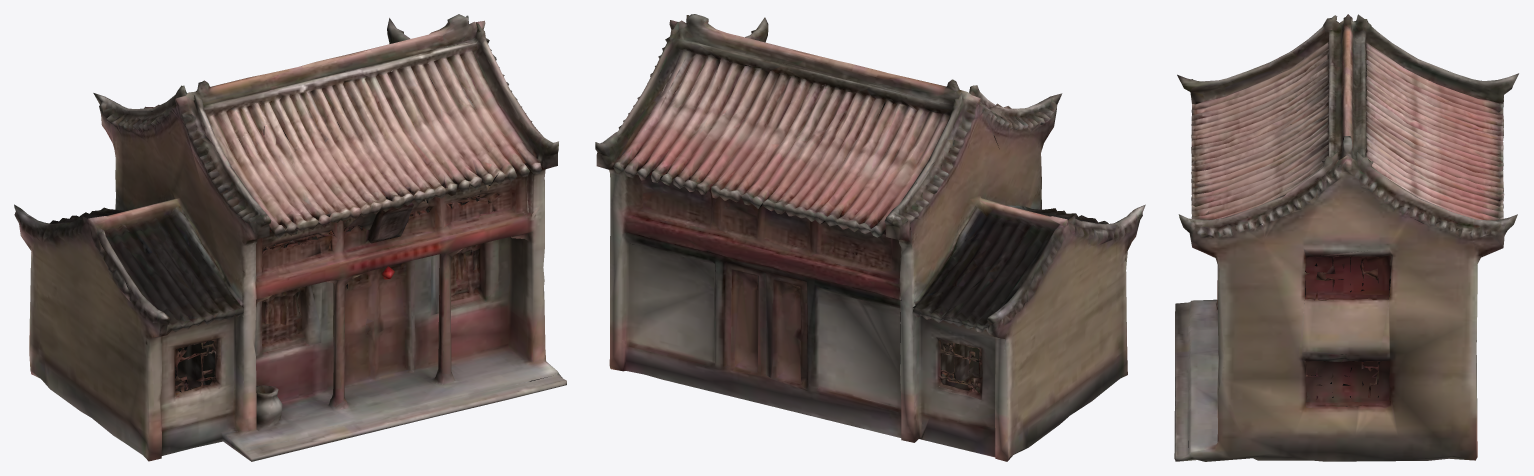
The model's file is bq_inn.bk.glb.
3 renders of one model, left to right at view 1: azimuth 30°, elevation 25°; view 2: azimuth 150°, elevation 25°; view 3: azimuth 270°, elevation 25°, orthographic.
Parts seen in each view (by area): view 1: lo; view 2: lo; view 3: lo.
Part boxes in pixels (x1,y1,x2,y2): lo: [14, 14, 566, 461]; lo: [595, 14, 1145, 461]; lo: [1174, 14, 1518, 461].
Size of the model in its own units: 1.9 by 1.42 by 1.42.
1 material, 1 textured.
